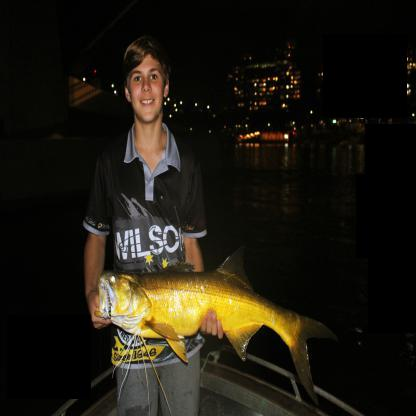fish: (100, 250, 336, 402)
